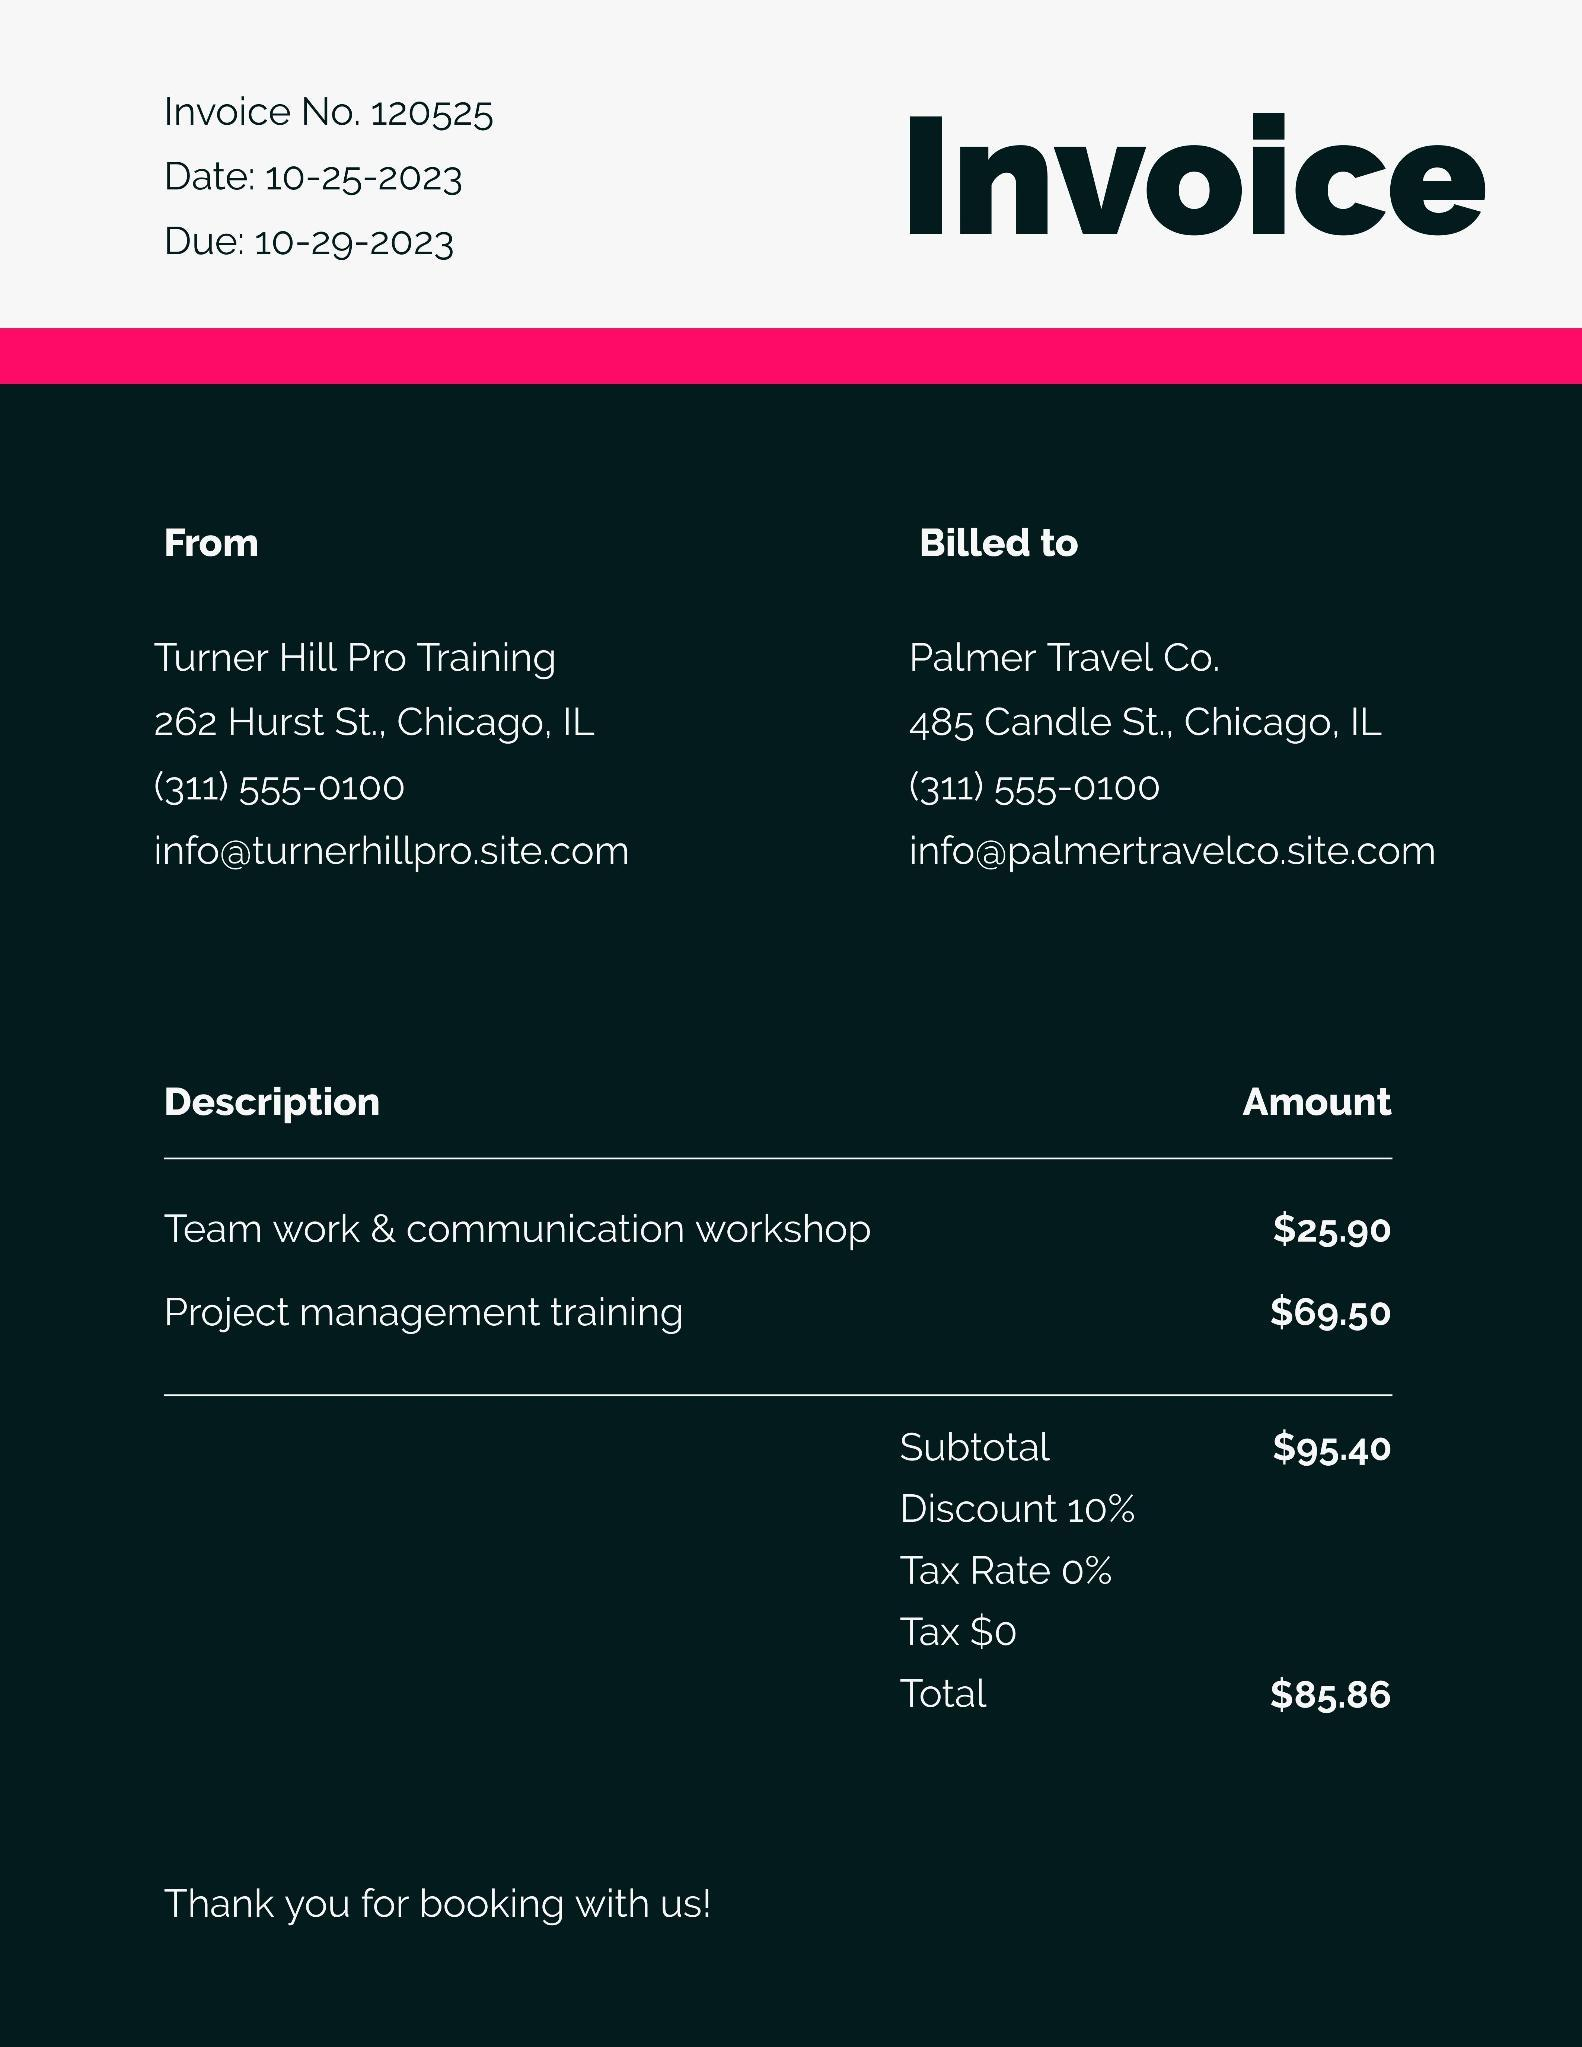ROI: (140, 1022, 1479, 1372), (858, 460, 1479, 908), (58, 501, 725, 903), (847, 1398, 1456, 1781), (847, 72, 1516, 292), (125, 65, 536, 288), (121, 1838, 752, 1983)
